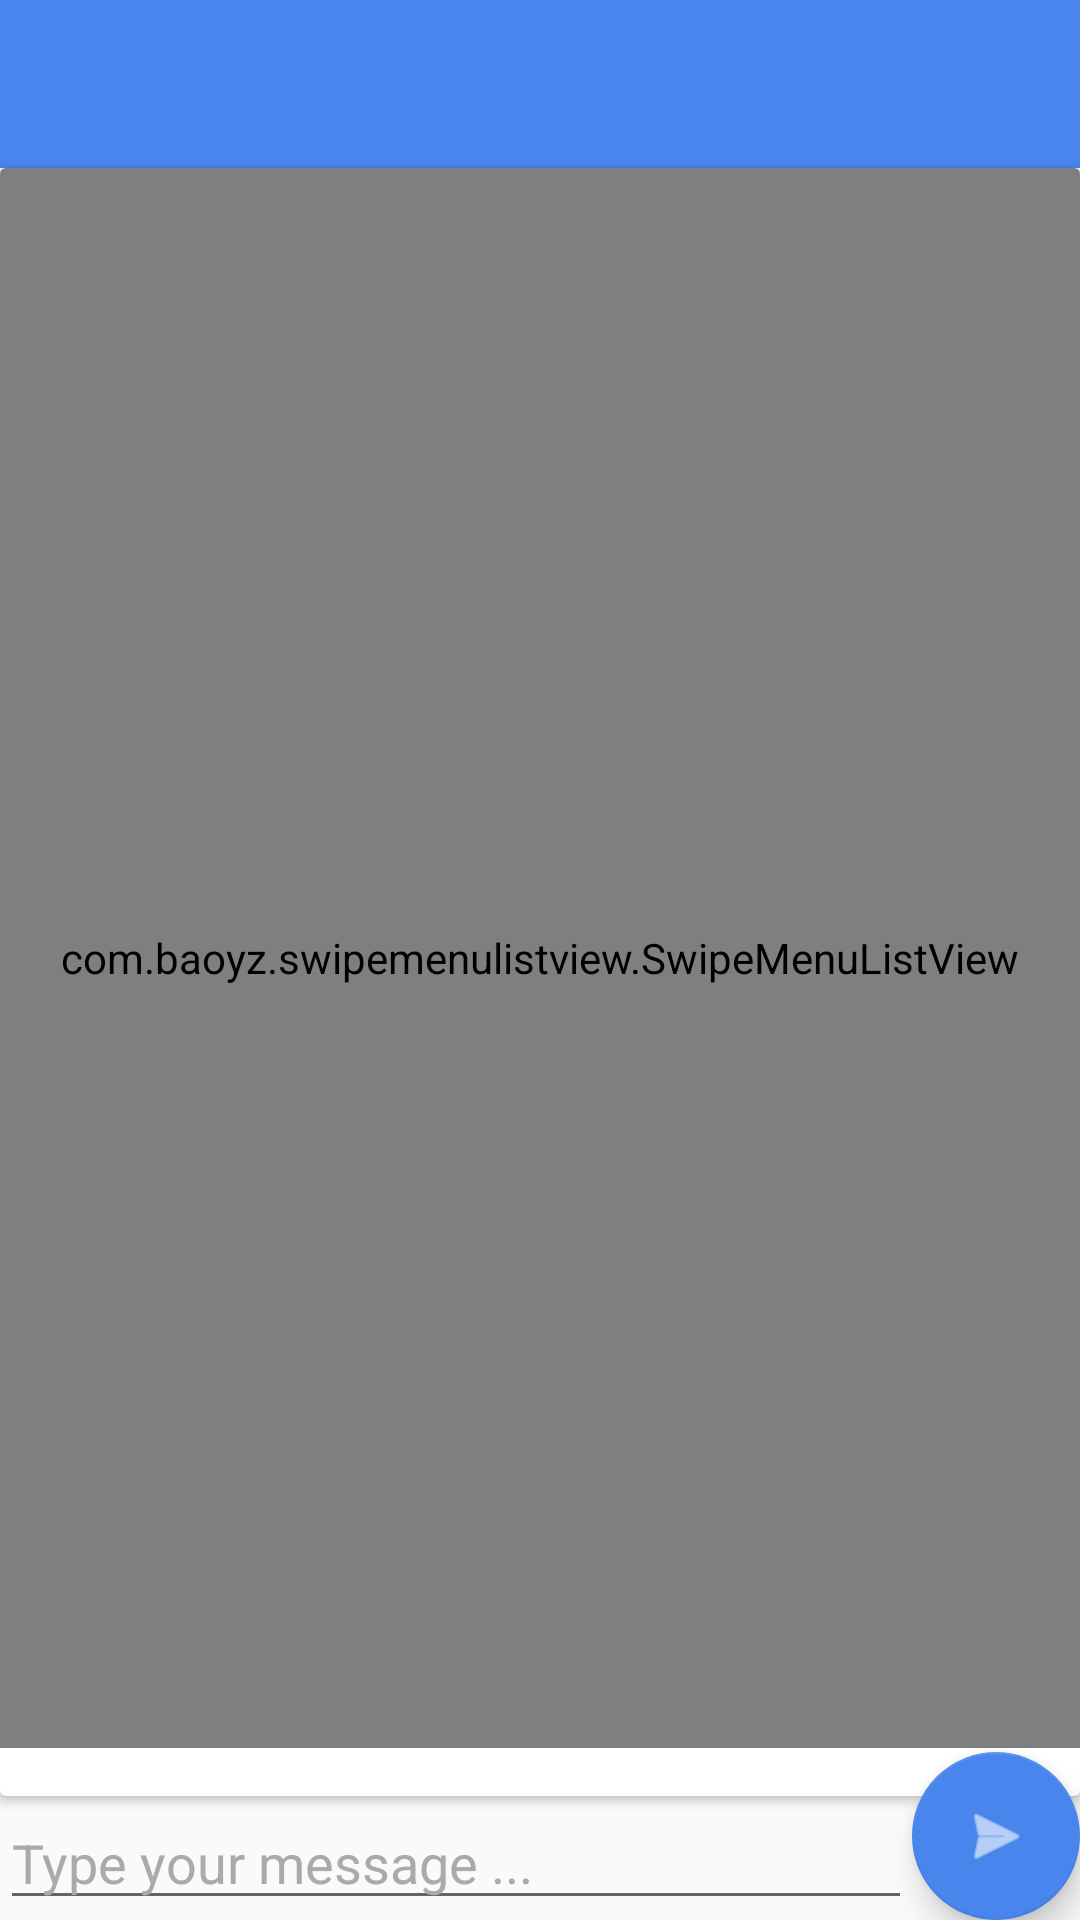

Where icons sit on this 1080x1920 app screen, as [left=x1, top=y1, right=x2, bottom=y2]:
send: [left=912, top=1752, right=1080, bottom=1920]
